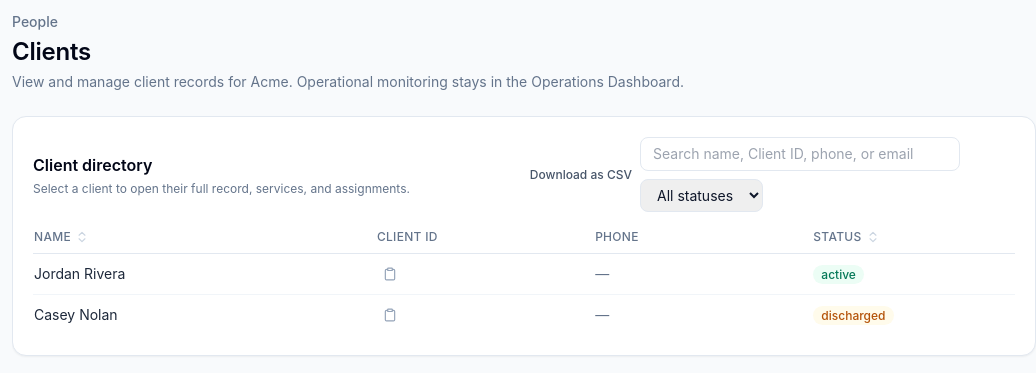
ClientsPage › filters the list by status and clears the filter
This screenshot has width=1036, height=373.
Expected: the link "Jordan Rivera" is shown, [34,265,125,282]
Expected: the link "Casey Nolan" is shown, [34,306,118,323]
Select "discharged" in the dropdown named "Filter by status" at (702,196), box [640,179,763,212]
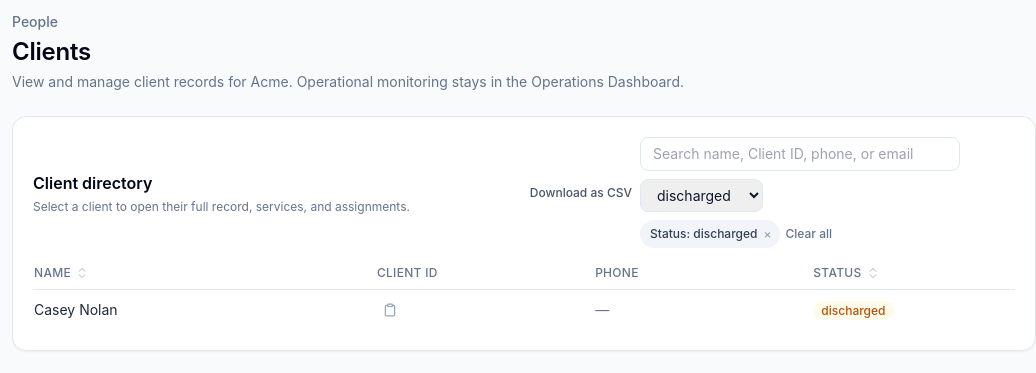
Expected: the link "Casey Nolan" is shown, [34,301,118,318]
Now the link "Jordan Rivera" is gone
Now the text "Status: discharged" is shown, box [650,226,758,241]
Click the button "Clear all" at (809,234), box [786,226,832,242]
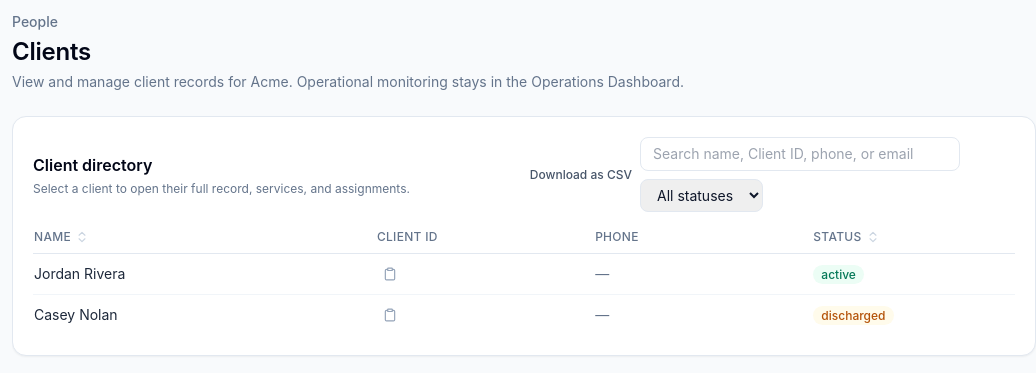
Expected: the link "Casey Nolan" is shown, [34,306,118,323]
Now the link "Jordan Rivera" is shown, box [34,265,125,282]
Now the text "Status: discharged" is gone
